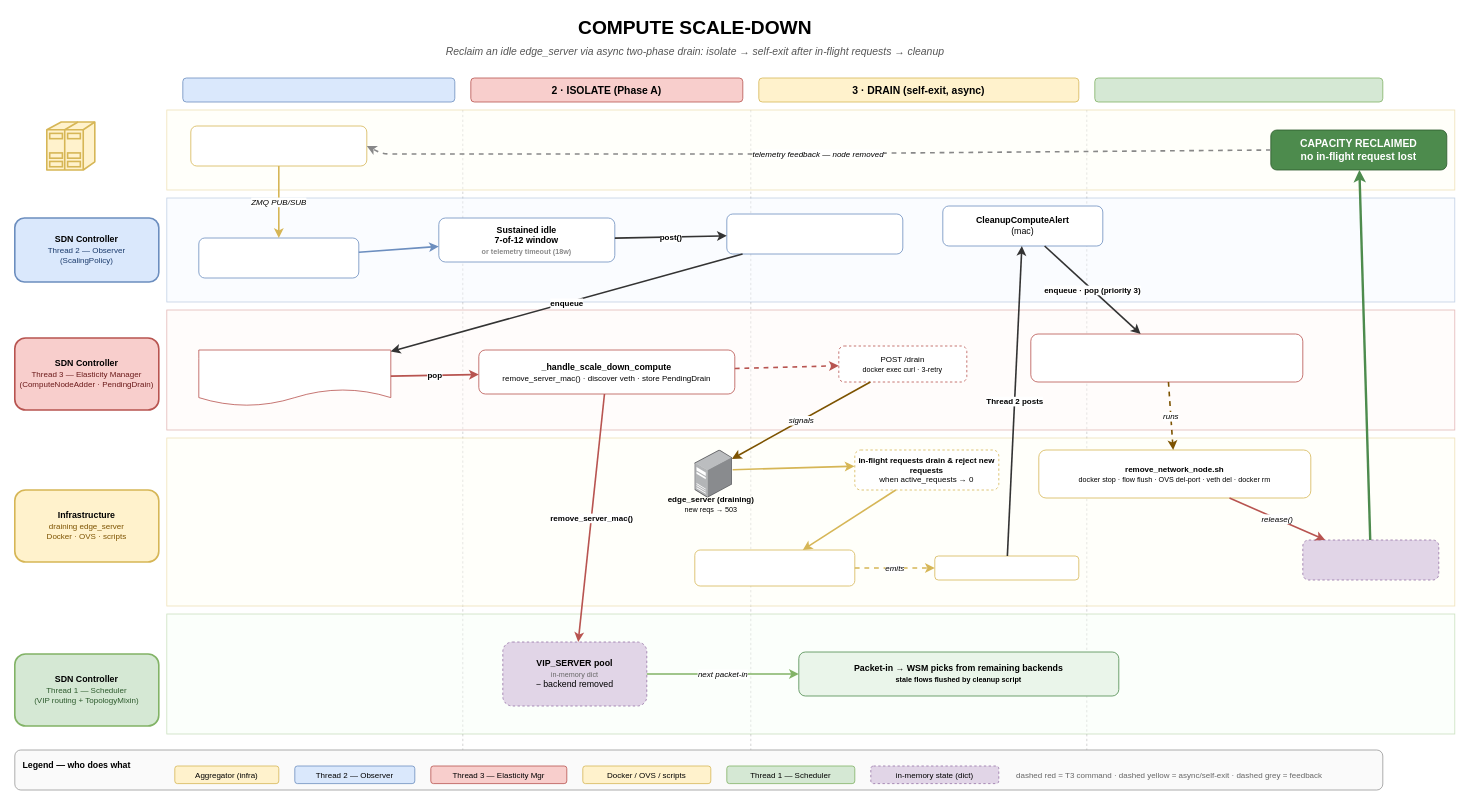
Image size: 1469x804. Some labels were removed from this diagram. Here are the shapes that lost their labels. From the top down, the centre of each, then its label:
point (318, 89): 1 · DETECT (idle)
point (1238, 89): 4 · CLEANUP (Phase B)
point (70, 145): Aggregator container · per LAN
point (278, 145): TelemetrySummary (CPU, T_proc, ~10 s window)
point (814, 233): ScaleDownComputeAlert (mac, ip, container_name)
point (278, 257): AND-gate idle CPU < τ & T_proc < τ
point (294, 377): PriorityQueue compute scale-down · priority 5
point (1166, 357): _handle_cleanup_compute lookup PendingDrain · run script · release IP
point (774, 567): os._exit(0) self-exit by the edge_server — no controller block
point (1006, 567): drain_complete ZMQ event
point (1370, 559): IpAllocator release IP + MAC
